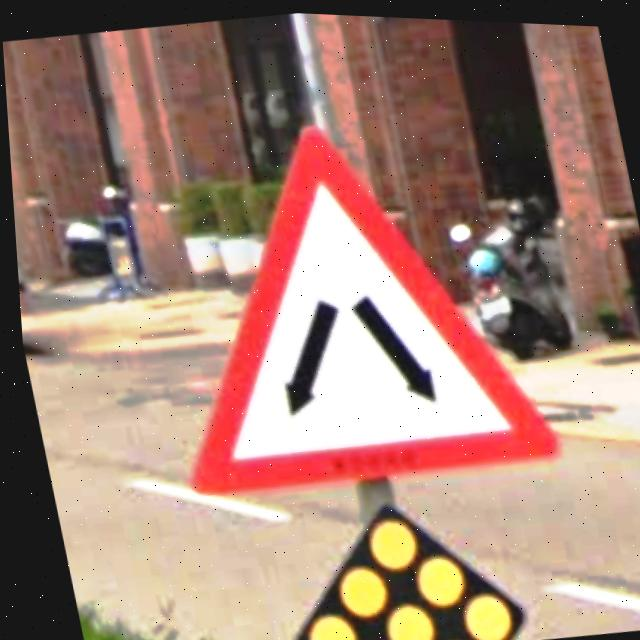diverge: (114, 85, 560, 512)
